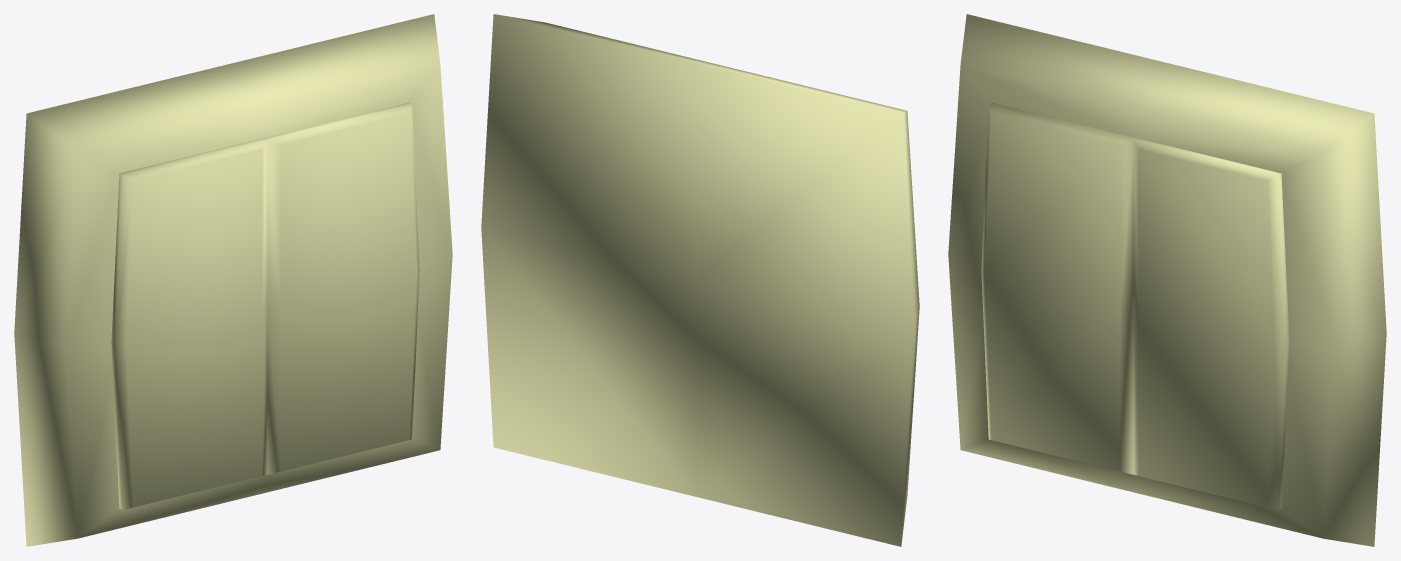
The model's file is Light _switch.fbx.
The picture shows the model from 3 angles, left to right: view 1: azimuth 30°, elevation 25°; view 2: azimuth 150°, elevation 25°; view 3: azimuth 330°, elevation 25°; orthographic projection.
Visible parts, largest first — view 1: Cube.012; view 2: Cube.012; view 3: Cube.012.
Boxes of the visible parts, x1,y1,x2,y2 form: Cube.012: (14,14,452,546); Cube.012: (481,14,919,546); Cube.012: (948,14,1386,546).
Size of the model in its own units: 17.01 by 16.3 by 2.8.
